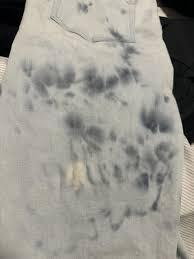ink: (111, 136, 176, 223), (22, 63, 74, 112), (85, 65, 140, 99), (64, 117, 105, 159), (110, 28, 139, 65), (142, 105, 173, 134), (77, 3, 92, 15)
